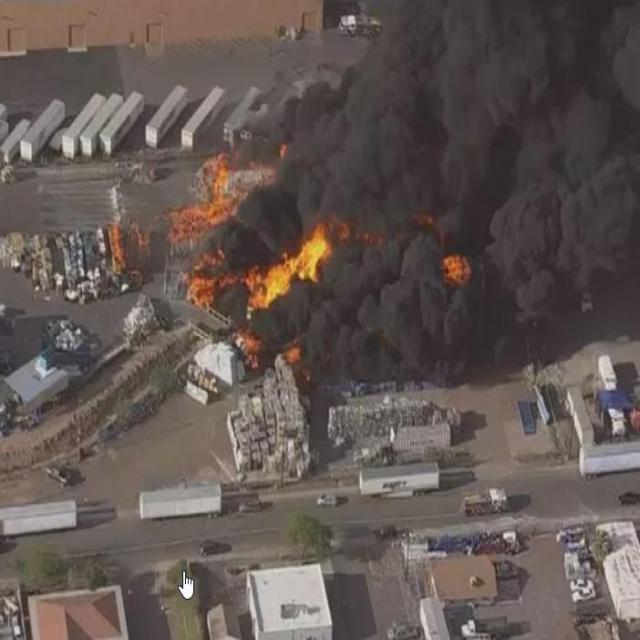Fire: (240, 226, 336, 320), (110, 221, 178, 274), (187, 158, 239, 216), (433, 232, 480, 293), (190, 276, 214, 309)
Smoke: (504, 86, 634, 327), (312, 66, 536, 202), (350, 260, 426, 342), (428, 295, 502, 340)
